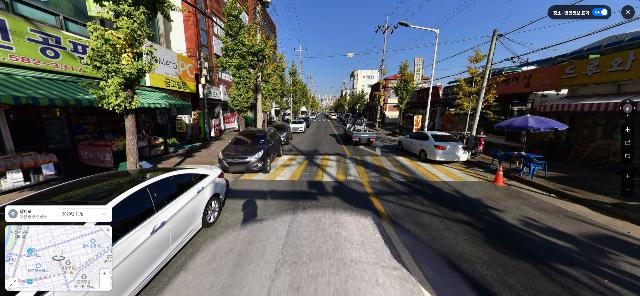ginkgo: (446, 43, 499, 141)
other: (83, 0, 190, 169), (212, 0, 278, 127), (264, 52, 289, 123), (394, 60, 416, 134), (369, 69, 389, 126), (284, 61, 301, 123), (297, 81, 312, 119), (357, 88, 369, 120), (348, 88, 358, 117), (337, 91, 348, 113)
